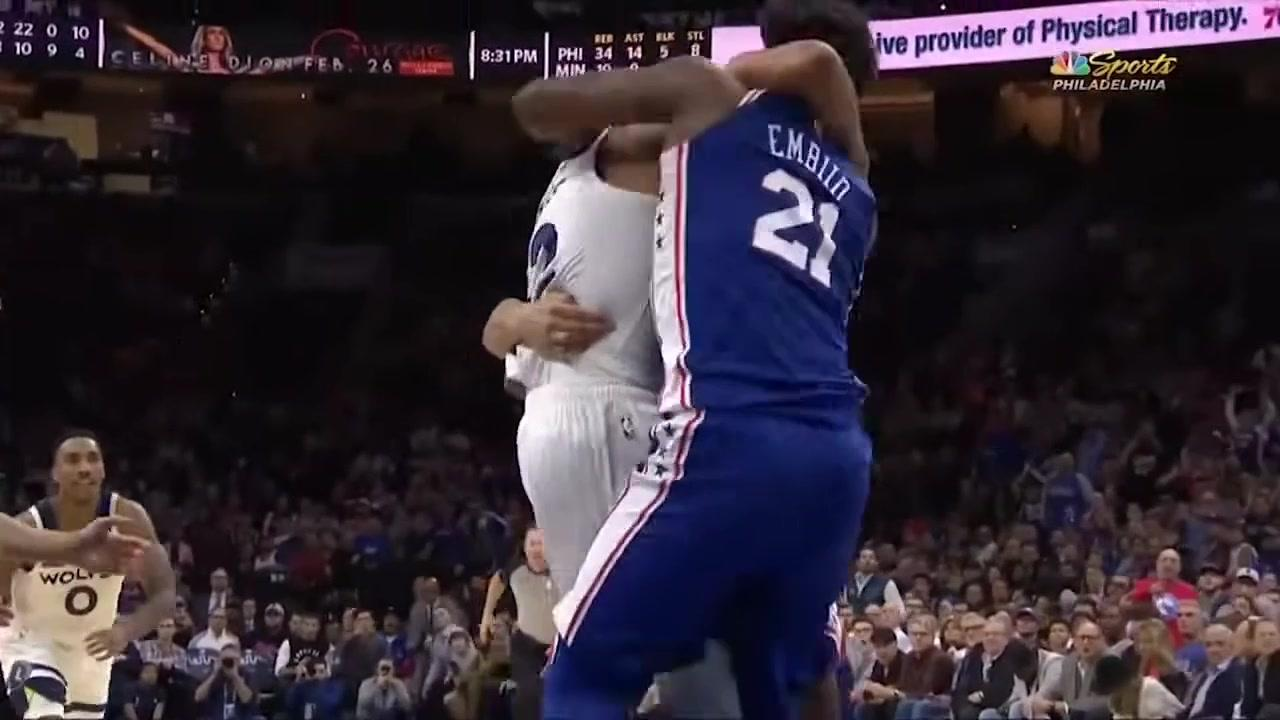foul: (442, 55, 940, 711)
